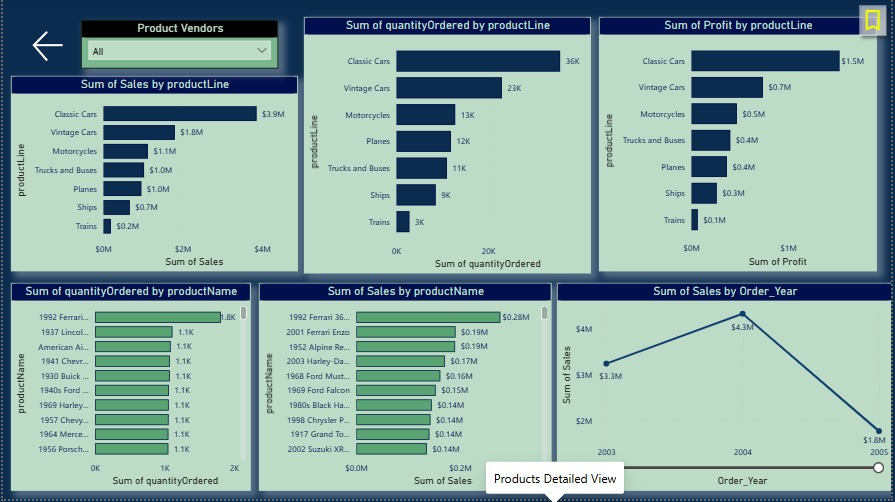

The page's visual inventory and layout, read from the dashboard file:
{"tool":"powerbi","page":{"name":"Products Detailed View","canvas":[1280,720],"ordinal":4},"visuals":[{"type":"clusteredBarChart","fields":{"Category":["Productlines.productLine"],"Y":["Sum(Order Details.Sales)"]},"box":[11.4,110.5,412.8,281.2],"z":0},{"type":"clusteredBarChart","fields":{"Category":["Productlines.productLine"],"Y":["Sum(Order Details.quantityOrdered)"]},"box":[434,26,412.8,368.9],"z":1000},{"type":"clusteredBarChart","fields":{"Category":["Productlines.productLine"],"Y":["Sum(Order Details.Profit)"]},"box":[858.1,26,399.8,365.7],"z":2000},{"type":"clusteredBarChart","fields":{"Y":["Sum(Order Details.quantityOrdered)"],"Category":["Products.productName"]},"box":[11.4,409.6,344.6,299.1],"z":3000},{"type":"clusteredBarChart","fields":{"Y":["Sum(Order Details.Sales)"],"Category":["Products.productName"]},"box":[368.9,409.6,420.9,299.1],"z":4000},{"type":"slicer","title":"Product Vendors","fields":{"Values":["Products.productVendor"]},"box":[112.1,30.9,284.4,69.9],"z":5000},{"type":"lineChart","fields":{"Category":["Orders.Order_Year"],"Y":["Sum(Order Details.Sales)"]},"box":[798,409.6,482.7,299.1],"z":6000},{"type":"actionButton","box":[37.4,40.6,89.4,55.3],"z":7000},{"type":"actionButton","box":[1223.8,0,56.9,61.8],"z":8000}]}

Visuals, with their boxes in screenshot pixels (x1, y1, x2, y2), scaled from the page's 1280x720 canvas onto the 895x502 screenshot:
clusteredBarChart - Productlines.productLine x Sum(Order Details.Sales): <region>8, 77, 297, 273</region>
clusteredBarChart - Productlines.productLine x Sum(Order Details.quantityOrdered): <region>303, 18, 592, 275</region>
clusteredBarChart - Productlines.productLine x Sum(Order Details.Profit): <region>600, 18, 880, 273</region>
clusteredBarChart - Sum(Order Details.quantityOrdered) x Products.productName: <region>8, 286, 249, 494</region>
clusteredBarChart - Sum(Order Details.Sales) x Products.productName: <region>258, 286, 552, 494</region>
"Product Vendors" slicer: <region>78, 22, 277, 70</region>
lineChart - Orders.Order_Year x Sum(Order Details.Sales): <region>558, 286, 894, 494</region>
actionButton: <region>26, 28, 89, 67</region>
actionButton: <region>856, 0, 894, 43</region>
